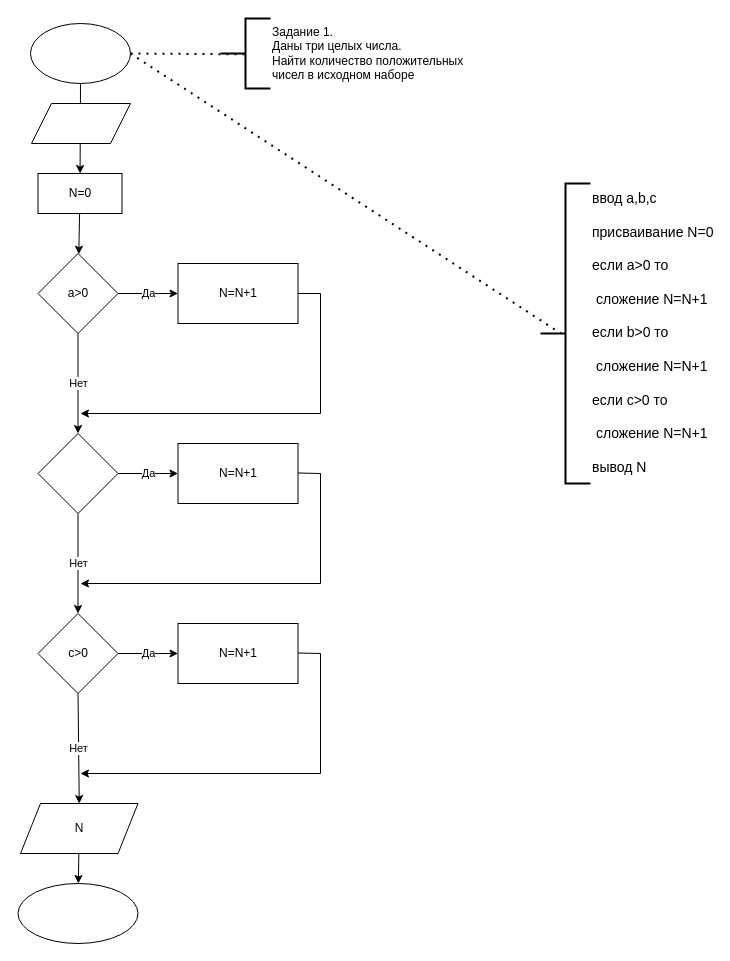
The diagram is 730 pixels wide and 961 high, and some of its shapes have lost their labels. Here are the shapes that lost their labels. From the top down, the centre of each, then its label:
the point at 80,53: НАЧАЛО
the point at 80,123: a,b,c
the point at 77,473: b>0
the point at 77,913: ВЫХОД
